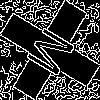M: (25, 25, 85, 84)
